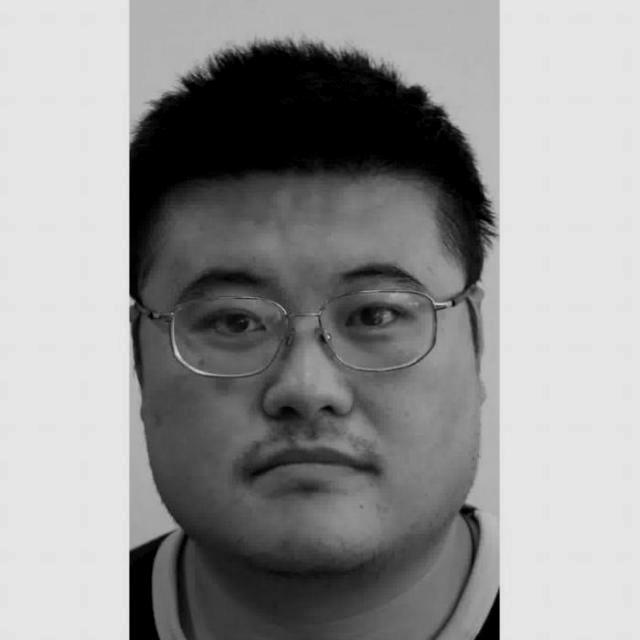real: (138, 36, 486, 566)
